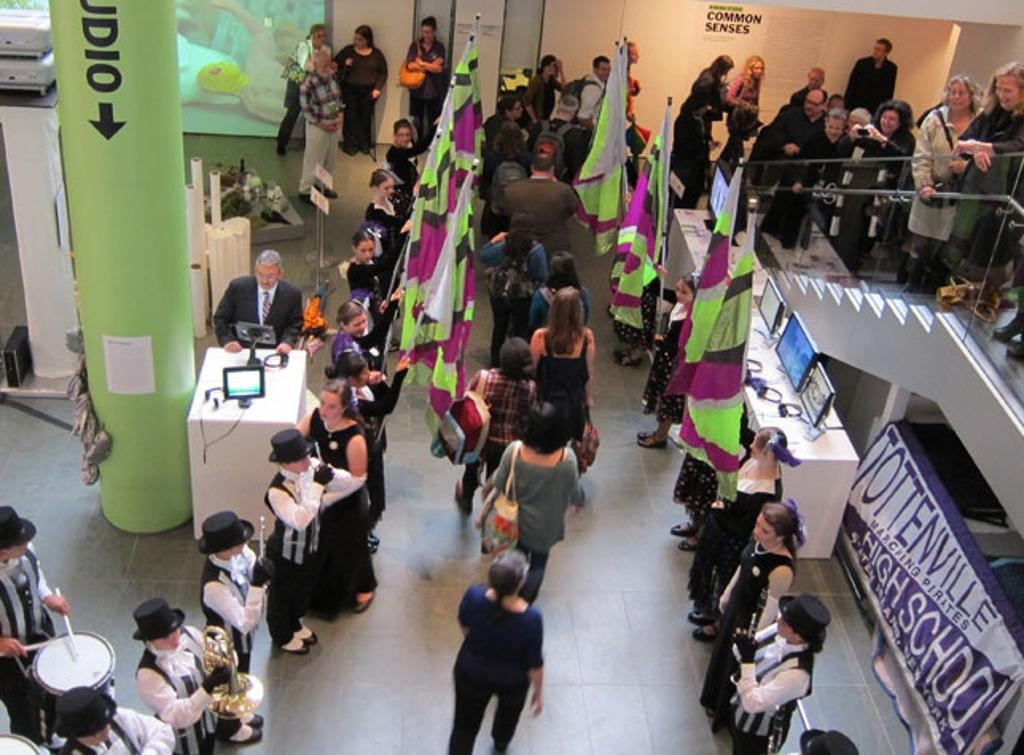human_face: (994, 77, 1018, 109), (752, 511, 774, 543), (156, 623, 180, 649), (83, 716, 109, 740), (318, 392, 340, 420), (256, 264, 278, 288), (949, 83, 969, 109), (748, 434, 766, 460), (775, 611, 793, 637), (289, 452, 311, 472), (356, 240, 374, 260), (880, 110, 898, 130), (349, 314, 367, 334), (826, 119, 842, 141), (804, 92, 820, 114), (675, 280, 691, 302), (353, 364, 369, 384), (8, 540, 28, 556), (849, 118, 865, 136), (316, 58, 332, 74), (396, 127, 410, 145), (596, 60, 610, 78), (830, 96, 842, 116), (228, 540, 244, 554), (380, 180, 392, 198), (315, 30, 327, 46), (629, 46, 639, 63), (510, 102, 522, 116), (750, 62, 762, 76), (354, 32, 364, 48), (422, 24, 432, 40), (810, 72, 820, 88), (872, 42, 882, 58), (698, 102, 708, 116), (578, 116, 590, 126), (548, 60, 556, 74)
